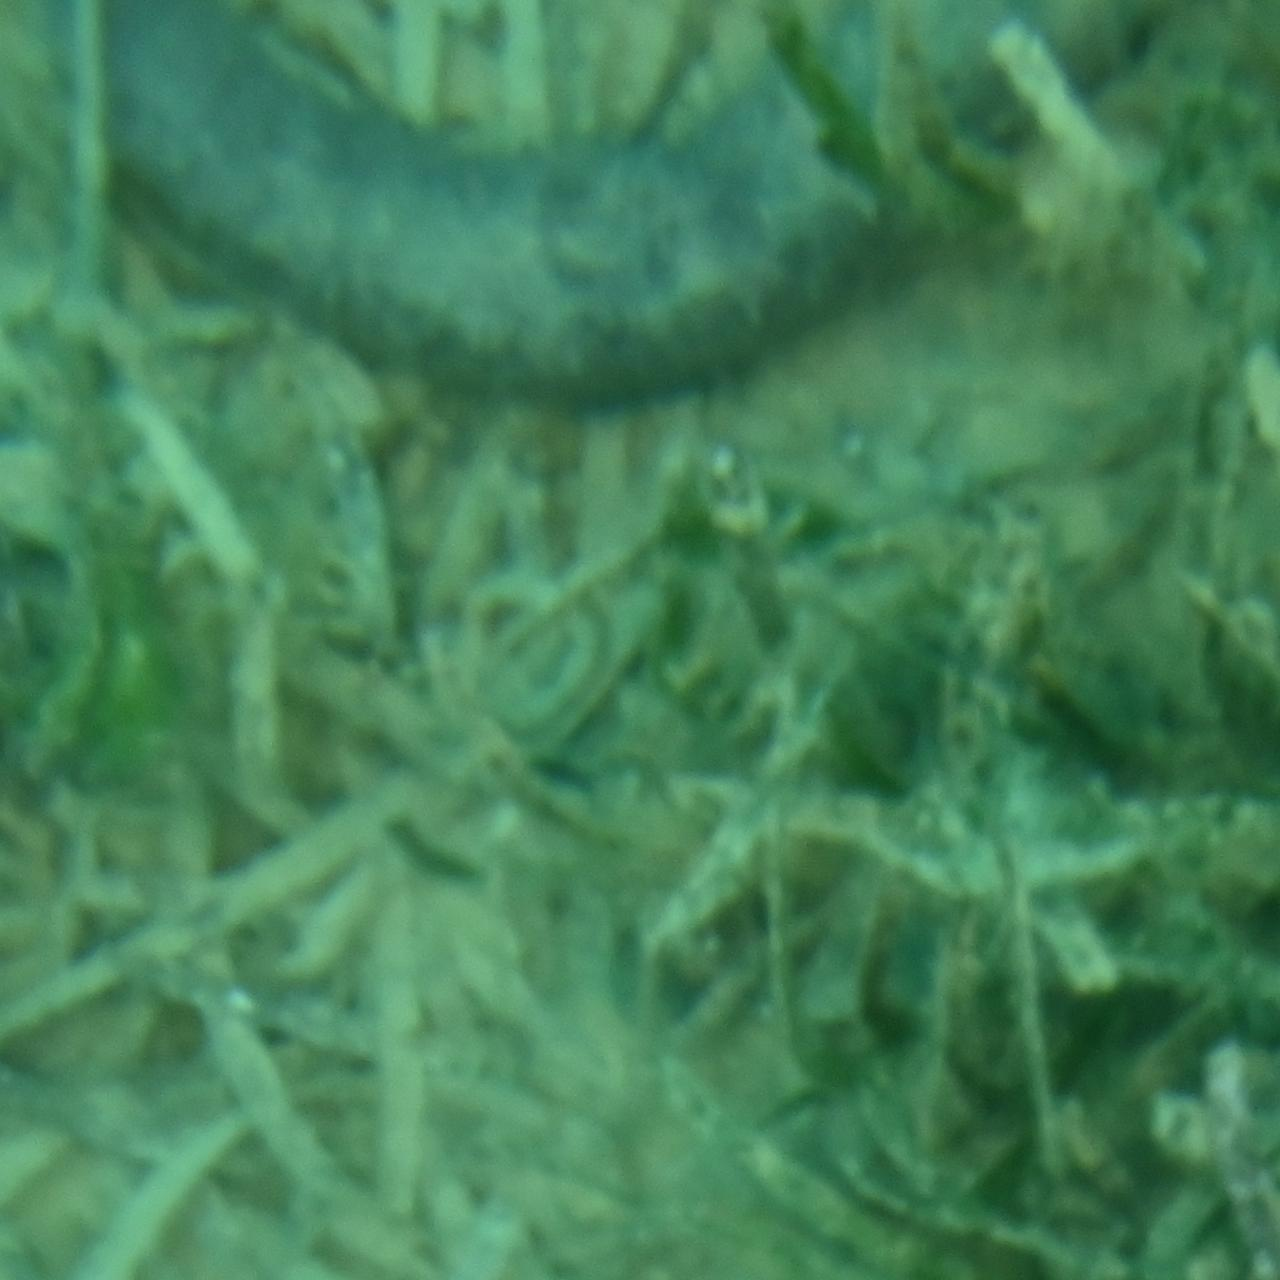Holothuria tubulosa: (86, 1, 1194, 425)
